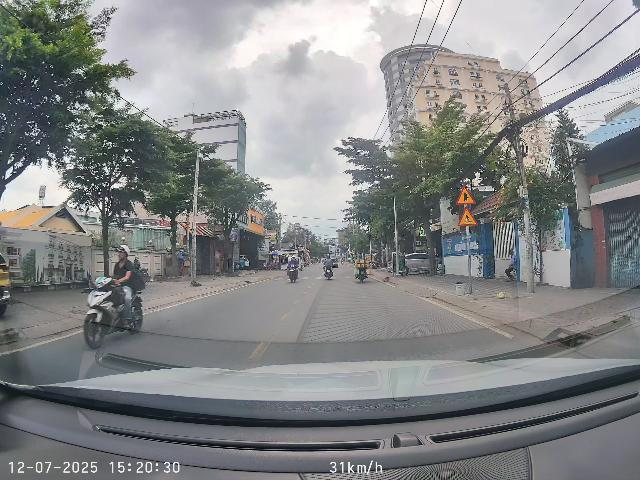207-giao-nhau-voi-duong-khong-uu-tien: (455, 185, 476, 205)
224-duong-nguoi-di-bo-cat-ngang: (457, 206, 478, 226)
